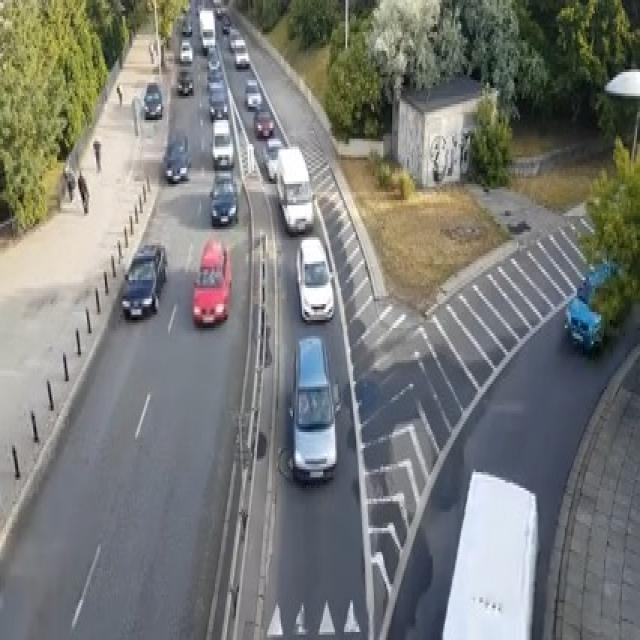bus: (440, 467, 540, 637)
car: (288, 336, 339, 483), (120, 243, 167, 320), (192, 235, 232, 325), (275, 144, 314, 235), (294, 235, 334, 322), (563, 296, 604, 355), (577, 256, 622, 304), (209, 171, 237, 224), (136, 243, 166, 285), (210, 117, 234, 168), (164, 134, 189, 182), (261, 136, 284, 181), (208, 83, 228, 120), (143, 83, 162, 117), (252, 109, 274, 136), (244, 78, 262, 110), (233, 37, 249, 67), (176, 70, 192, 94), (228, 27, 240, 50), (179, 40, 192, 61), (182, 16, 192, 35), (221, 13, 230, 32)
